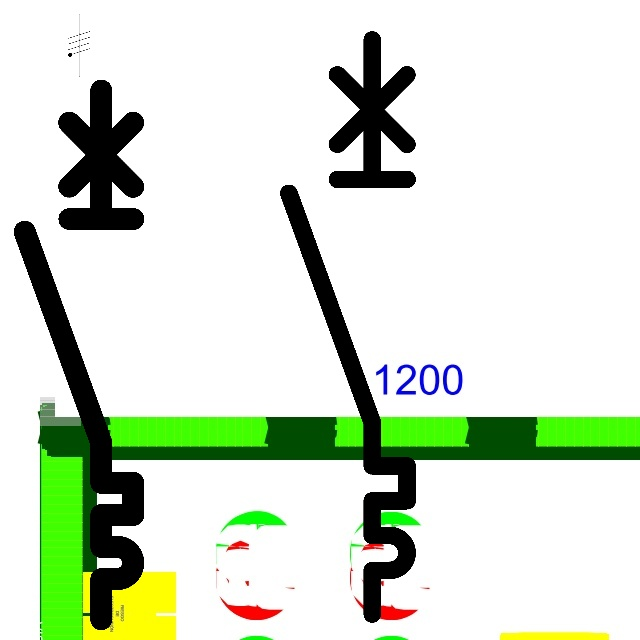interruptor_termomagnetico: (274, 25, 422, 629), (11, 76, 147, 632)
